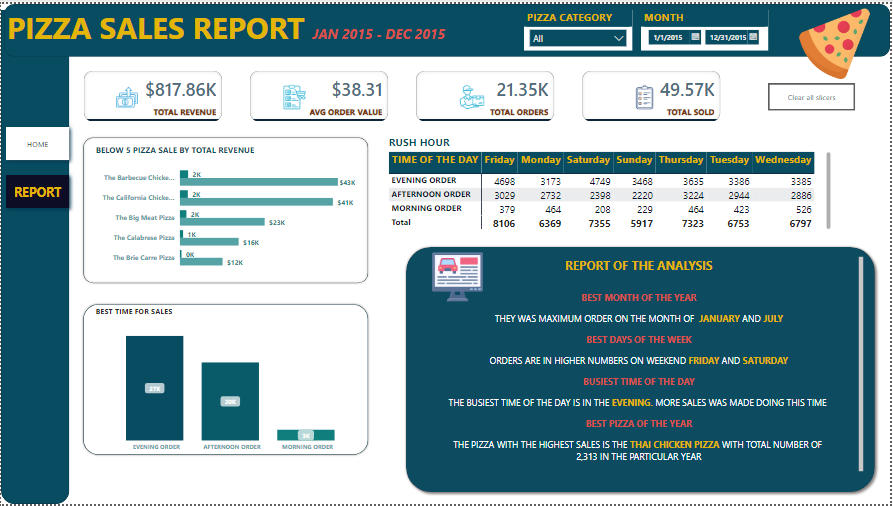

This screenshot's page, from the dashboard's own definition file:
{"tool":"powerbi","page":{"name":"REPORT","canvas":[1600,900],"ordinal":1},"visuals":[{"type":"cardVisual","fields":{"Data":["Clean pizza_sales.TOTAL REVENUE","Clean pizza_sales.AVG ORDER VALUE","Clean pizza_sales.TOTAL ORDERS","Clean pizza_sales.TOTAL SOLD"]},"box":[144.6,116.1,1158.9,101.8],"z":0},{"type":"shape","box":[0,10.7,123.2,889.3],"z":1000},{"type":"shape","box":[144.6,535.7,521.4,278.6],"z":2000},{"type":"shape","box":[5.4,0,1594.6,94.6],"z":3000},{"type":"shape","box":[144.6,235.7,521.4,271.4],"z":4000},{"type":"image","box":[1405.4,0,189.3,142.9],"z":5000},{"type":"textbox","box":[5.4,0,1346.4,83.9],"z":6000},{"type":"slicer","title":"PIZZA CATEGORY","fields":{"Values":["Clean pizza_sales.pizza_category"]},"box":[941.1,10.7,194.6,73.2],"z":7000},{"type":"actionButton","box":[1380.4,142.9,157.1,50],"z":8000},{"type":"clusteredBarChart","title":"BELOW 5 PIZZA SALE BY TOTAL REVENUE","fields":{"Category":["Clean pizza_sales.pizza_name"],"Y":["Clean pizza_sales.TOTAL ORDERS","Clean pizza_sales.TOTAL REVENUE"]},"box":[166.1,251.8,476.8,239.3],"z":9000},{"type":"lineClusteredColumnComboChart","title":"BEST TIME FOR SALES","fields":{"Y":["Clean pizza_sales.TOTAL SOLD"],"Category":["Clean pizza_sales.TIME OF THE DAY"]},"box":[166.1,542.9,500,271.4],"z":10000},{"type":"pivotTable","title":"RUSH HOUR","fields":{"Rows":["Clean pizza_sales.TIME OF THE DAY"],"Values":["CountNonNull(Clean pizza_sales.TIME OF THE DAY)"],"Columns":["Clean pizza_sales.Day Name"]},"box":[693,235.8,806.4,174.6],"z":11000},{"type":"slicer","title":"MONTH","fields":{"Values":["Clean pizza_sales.order_date"]},"box":[1151.8,10.7,228.6,73.2],"z":12000},{"type":"shape","box":[720,428.4,862.2,459],"z":13000},{"type":"pageNavigator","box":[0,212,132,78.6],"z":14000},{"type":"pageNavigator","box":[0,299,132.1,78.6],"z":14001},{"type":"textbox","box":[747,450,810,421.2],"z":14002},{"type":"image","box":[766.8,439.2,109.8,104.4],"z":14003}]}

Visuals, with their boxes in screenshot pixels (x1, y1, x2, y2), scaled from the page's 1600x900 canvas onto the 893x506 screenshot:
cardVisual - Clean pizza_sales.TOTAL REVENUE x Clean pizza_sales.AVG ORDER VALUE: box(81, 65, 728, 123)
shape: box(0, 6, 69, 505)
shape: box(81, 301, 372, 458)
shape: box(3, 0, 892, 53)
shape: box(81, 133, 372, 285)
image: box(784, 0, 890, 80)
textbox: box(3, 0, 754, 47)
"PIZZA CATEGORY" slicer: box(525, 6, 634, 47)
actionButton: box(770, 80, 858, 108)
"BELOW 5 PIZZA SALE BY TOTAL REVENUE" clusteredBarChart: box(93, 142, 359, 276)
"BEST TIME FOR SALES" lineClusteredColumnComboChart: box(93, 305, 372, 458)
"RUSH HOUR" pivotTable: box(387, 133, 837, 231)
"MONTH" slicer: box(643, 6, 770, 47)
shape: box(402, 241, 883, 499)
pageNavigator: box(0, 119, 74, 163)
pageNavigator: box(0, 168, 74, 212)
textbox: box(417, 253, 869, 490)
image: box(428, 247, 489, 306)
